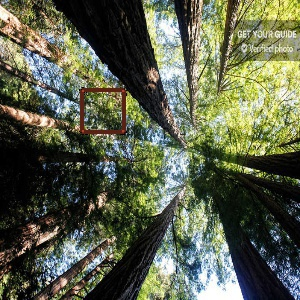square: (75, 85, 129, 137)
